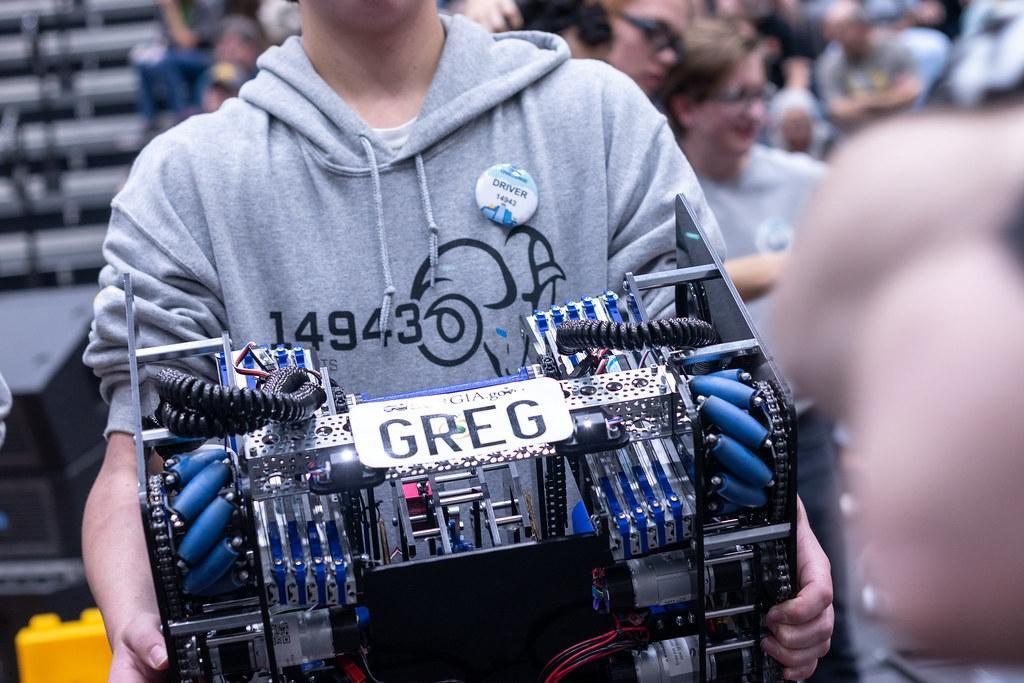robot: (90, 179, 837, 683)
